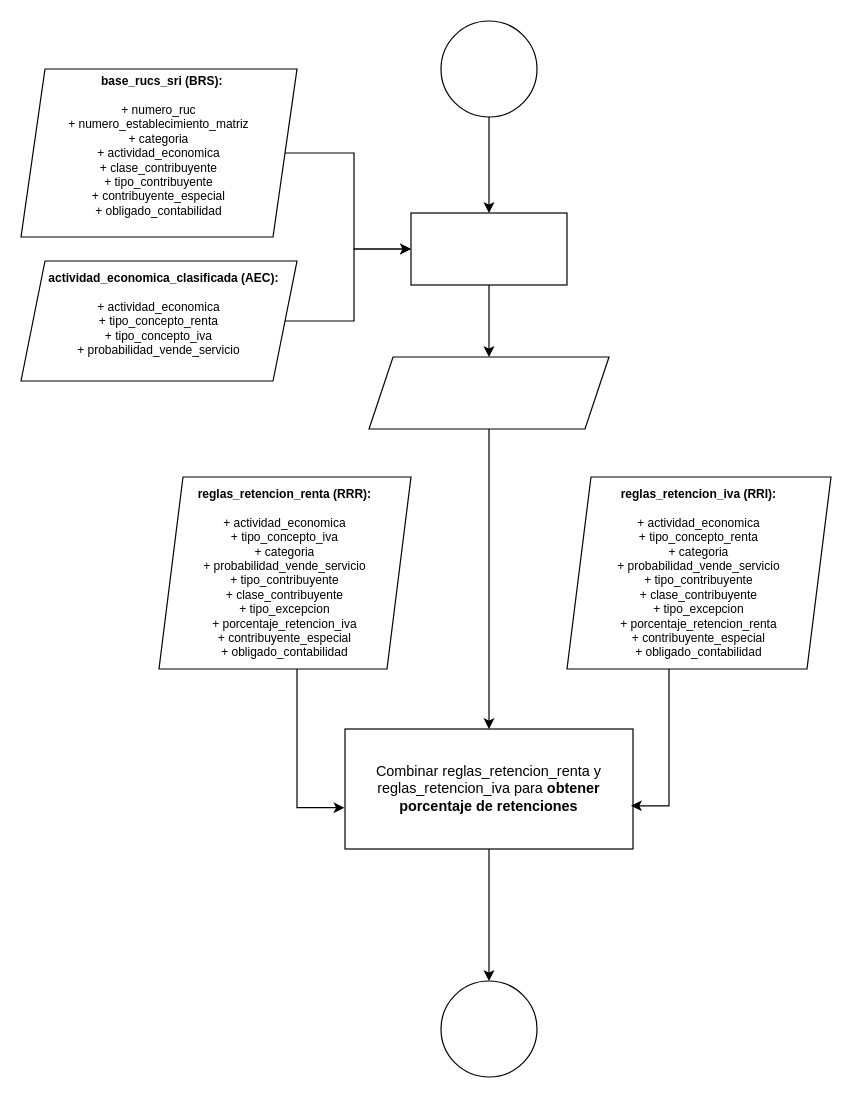
This 852x1098 diagram has some shape labels left out. Each missing label, with the centre of its shape:
"base_enriquecida_retenciones" belongs at [488,392].
"Combinar información de AEC y BRS" belongs at [488,248].
